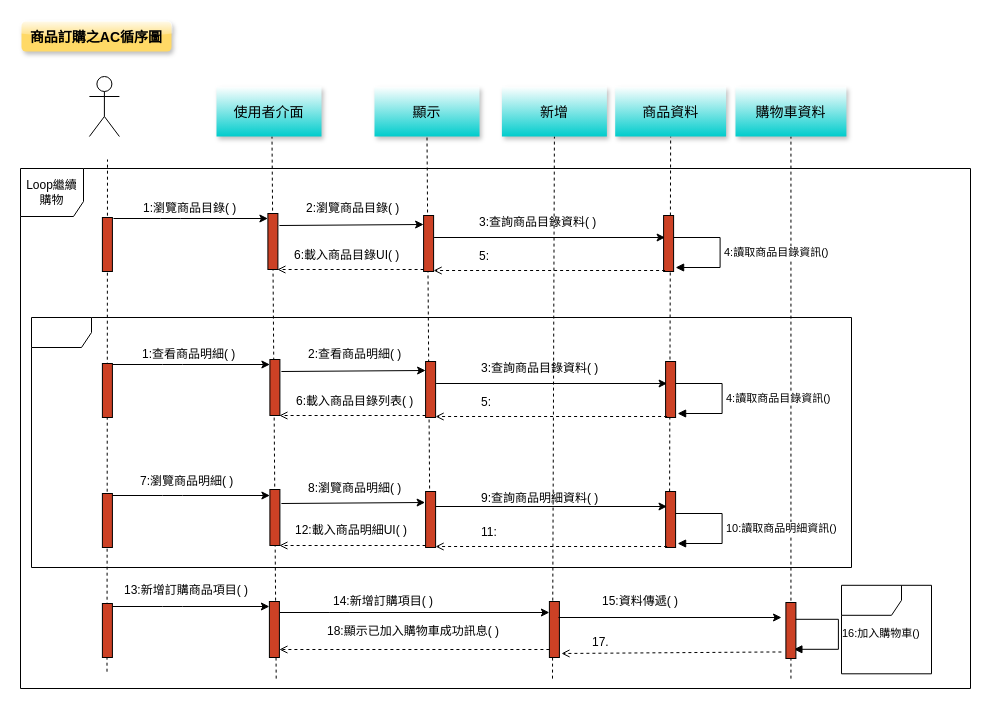
The diagram is 988 pixels wide and 706 high, and some of its shapes have lost their labels. The centre of each missing label's shape, as x and y in pixels:
opt: the point at 441,442
ref: the point at 886,629
會員: the point at 103,106
